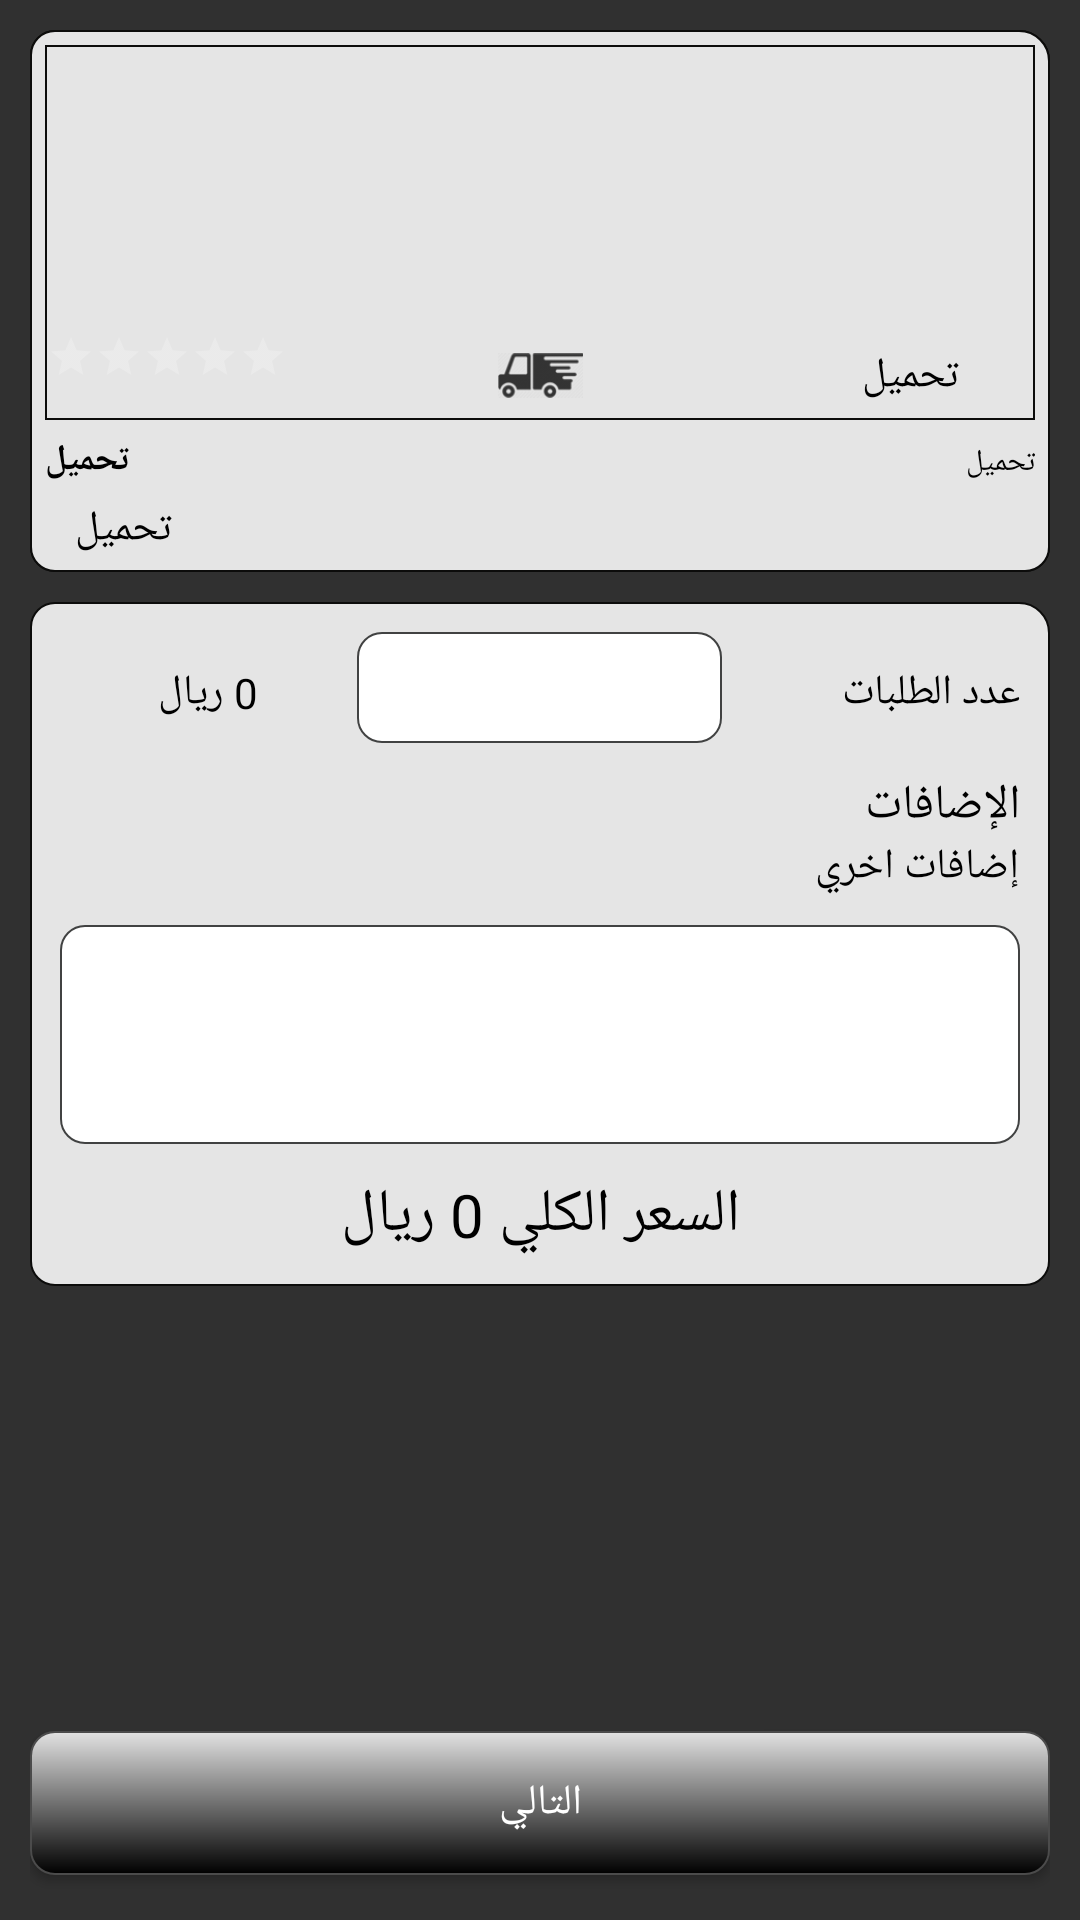

Screen size 1080px x 1920px. Icon name, then its center in pixels as (x=x, y=y):
deliverable: (x=540, y=375)
